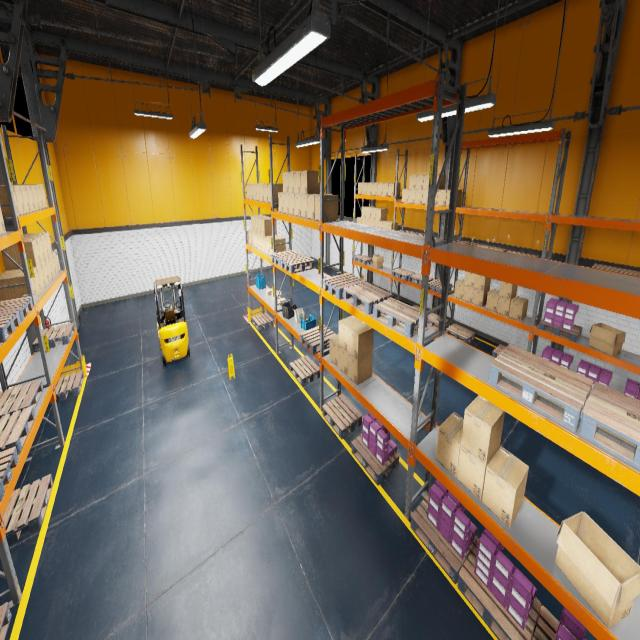box: (555, 512, 640, 628), (482, 446, 528, 528), (461, 395, 505, 465), (456, 444, 499, 501), (436, 412, 464, 478), (0, 266, 41, 296), (2, 239, 41, 270), (589, 323, 625, 356), (0, 272, 37, 301), (348, 321, 373, 360), (0, 184, 35, 211), (347, 352, 373, 385), (338, 316, 361, 352), (23, 232, 52, 256), (17, 185, 47, 208), (23, 234, 49, 259), (315, 194, 338, 221), (0, 185, 19, 216), (23, 236, 45, 262), (12, 185, 30, 213), (300, 170, 320, 194), (307, 194, 326, 219), (509, 296, 528, 320), (496, 296, 516, 316), (13, 186, 25, 214), (499, 281, 517, 299), (472, 288, 490, 306), (269, 237, 286, 256), (260, 217, 276, 236), (265, 234, 280, 254), (486, 289, 499, 312), (267, 184, 283, 202), (338, 345, 347, 376), (474, 274, 491, 290), (330, 334, 338, 366), (446, 190, 462, 206), (30, 185, 40, 210), (37, 264, 46, 291), (252, 183, 266, 200), (254, 216, 268, 233), (41, 260, 50, 286), (257, 217, 270, 235), (251, 214, 264, 232), (35, 184, 44, 209), (454, 279, 464, 299), (463, 285, 474, 303), (46, 256, 53, 282), (0, 205, 6, 235), (464, 272, 475, 288), (52, 250, 59, 274), (437, 190, 447, 206), (388, 183, 400, 196), (436, 174, 446, 189), (50, 254, 56, 278), (372, 255, 383, 268), (301, 195, 307, 218), (294, 170, 300, 193), (294, 194, 300, 216), (288, 171, 294, 193), (288, 193, 294, 215), (376, 208, 387, 220), (371, 207, 381, 220), (377, 182, 387, 195), (386, 221, 398, 231), (366, 207, 376, 219), (249, 183, 256, 199), (283, 171, 288, 193), (362, 206, 371, 218), (416, 174, 423, 189), (283, 193, 288, 213), (278, 192, 283, 212), (415, 189, 422, 203), (408, 189, 415, 203), (372, 182, 379, 195), (409, 175, 416, 188), (263, 184, 268, 202), (423, 174, 429, 189), (402, 188, 408, 202), (382, 183, 388, 196), (422, 190, 428, 203), (380, 221, 391, 228), (260, 184, 264, 201), (262, 235, 266, 252), (258, 233, 262, 250), (367, 182, 372, 195), (362, 182, 367, 195), (256, 184, 260, 200), (246, 183, 250, 199), (254, 232, 258, 248), (251, 231, 255, 247), (248, 228, 252, 244), (278, 298, 286, 305), (272, 296, 280, 303), (271, 290, 279, 297), (274, 290, 281, 297), (358, 182, 362, 194), (435, 190, 438, 205), (266, 289, 272, 295), (370, 220, 376, 226), (376, 220, 380, 227), (366, 219, 370, 225), (361, 218, 365, 224), (357, 217, 361, 223)
forklift: (153, 276, 190, 366)
pallets: (488, 344, 593, 431), (458, 539, 542, 639), (410, 492, 478, 584), (578, 382, 640, 469), (2, 474, 53, 545), (352, 434, 399, 485), (373, 298, 428, 337), (322, 394, 362, 439), (0, 405, 35, 454), (0, 379, 43, 418), (343, 282, 392, 314), (32, 322, 75, 352), (48, 370, 84, 405), (322, 273, 366, 299), (300, 325, 336, 354), (539, 318, 582, 342), (0, 447, 19, 501), (532, 606, 559, 640), (290, 356, 320, 386), (0, 296, 34, 322), (0, 310, 21, 342), (590, 264, 640, 277), (280, 255, 314, 273), (446, 324, 475, 344), (270, 250, 302, 267), (0, 601, 11, 639), (252, 312, 273, 331), (428, 279, 452, 295), (408, 272, 434, 286), (427, 313, 449, 329), (392, 268, 415, 281), (506, 250, 539, 258), (492, 344, 506, 358), (477, 245, 508, 251), (355, 255, 373, 264), (412, 305, 428, 311), (458, 241, 482, 245), (400, 230, 416, 233), (412, 232, 424, 235)
